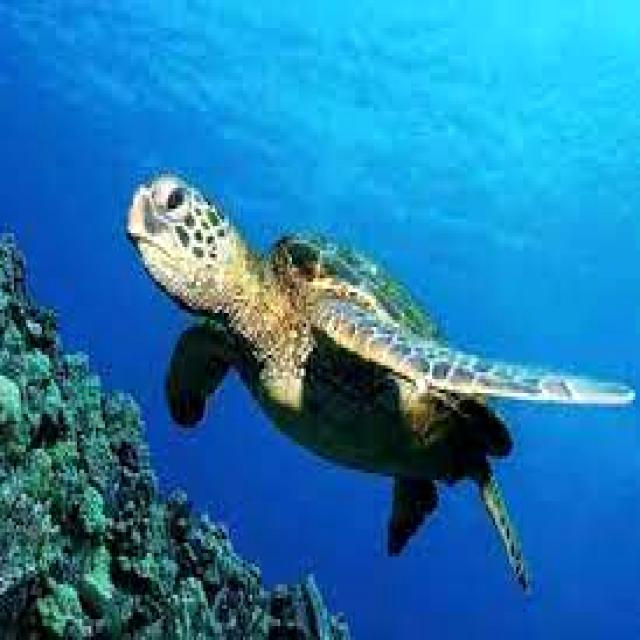Sea turtle: (124, 168, 640, 593)
